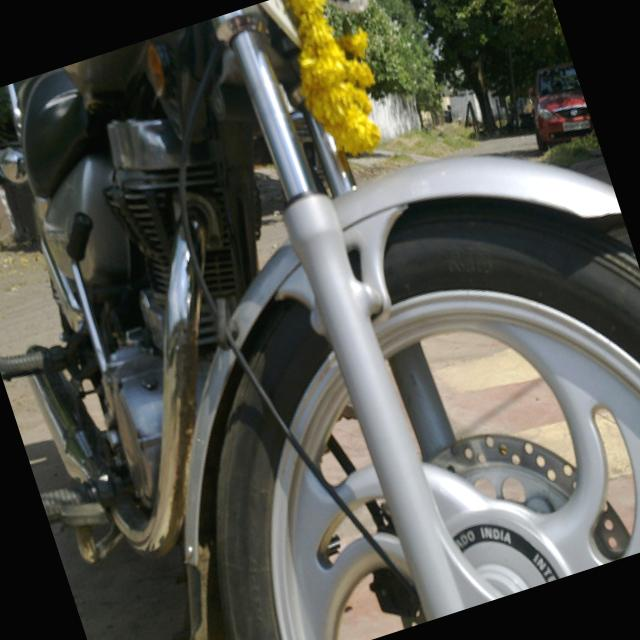Vehicle: (0, 0, 640, 640), (8, 0, 406, 116), (518, 58, 596, 150)
